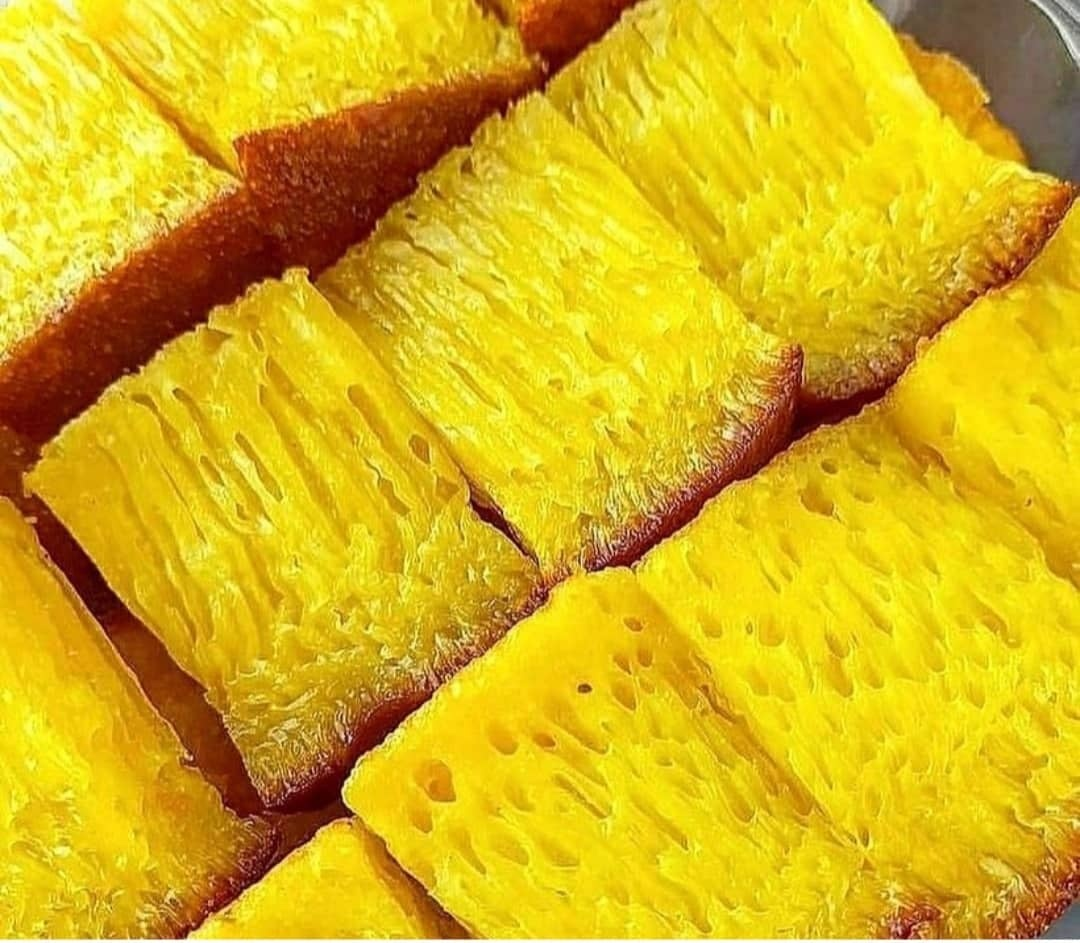bika_ambon: (360, 402, 1070, 929), (25, 254, 524, 797), (298, 83, 792, 565)
